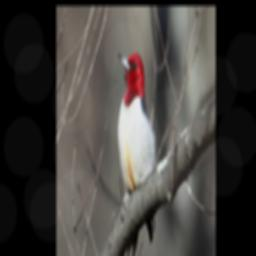Woodpecker: (116, 52, 158, 256)
